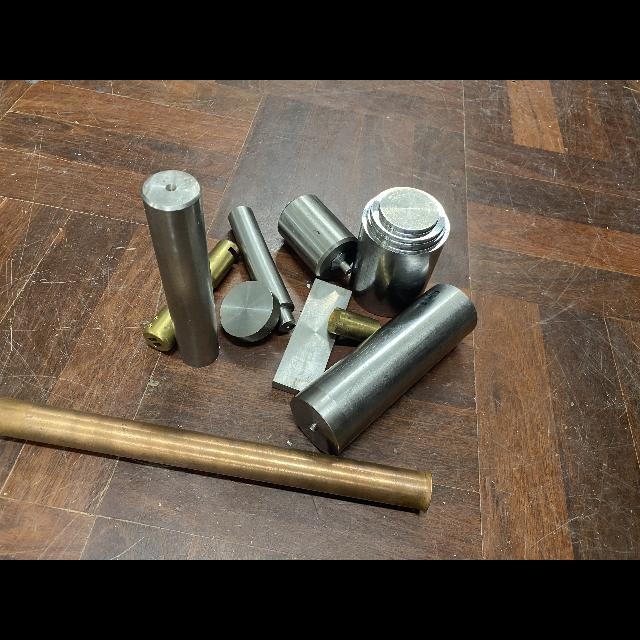Brass: (327, 308, 381, 342), (143, 305, 176, 352), (210, 240, 239, 289)
Copper: (0, 398, 432, 511)
Stainless Steel: (291, 284, 477, 455), (141, 170, 219, 367), (350, 187, 450, 317), (272, 279, 352, 393), (229, 206, 296, 332), (278, 195, 357, 280), (220, 281, 280, 342)
